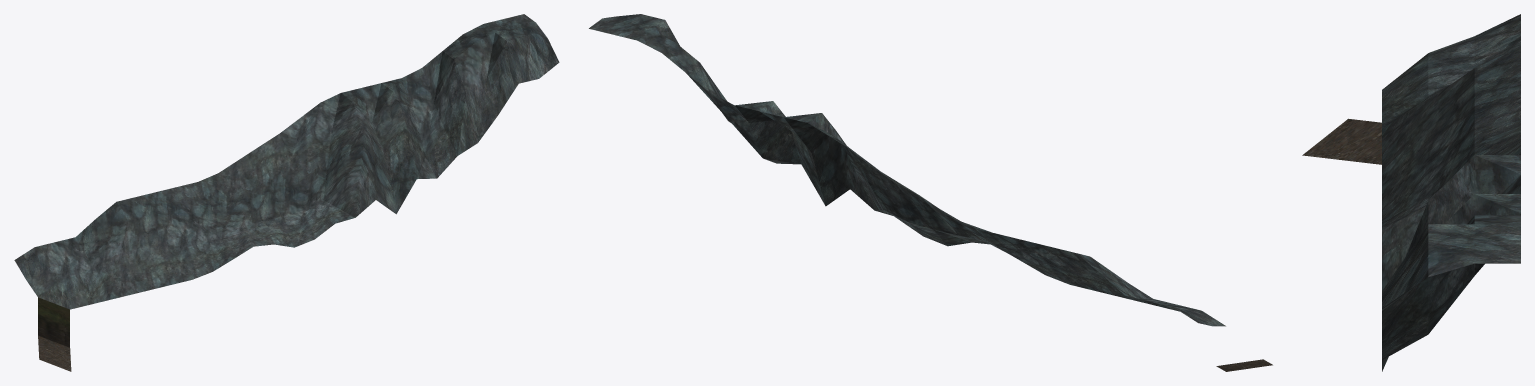
The model's file is terrain_base02.fbx.
3 views of the same model, side by side, from view 1: azimuth 30°, elevation 25°; view 2: azimuth 150°, elevation 25°; view 3: azimuth 270°, elevation 25° (orthographic). The views are drawn at different scales.
Visible parts, largest first — view 1: obj1.055; view 2: obj1.055; view 3: obj1.055.
Part boxes in pixels (bbox=[...]): obj1.055: bbox=[14, 14, 559, 371]; obj1.055: bbox=[589, 14, 1272, 371]; obj1.055: bbox=[1302, 14, 1520, 371].
Size of the model in its own units: 64.84 by 22.63 by 11.83.
